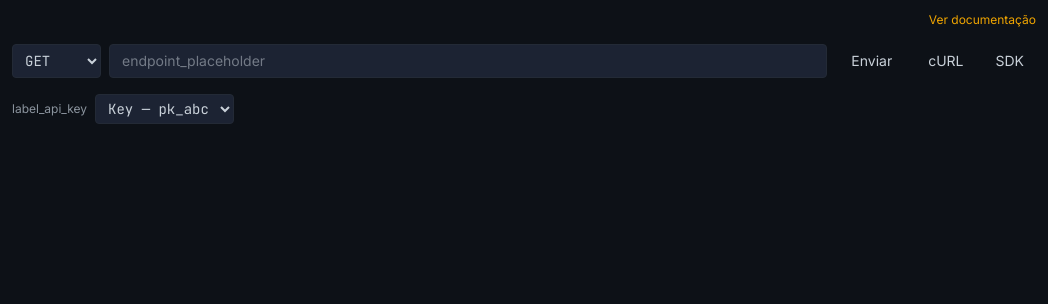
PlaygroundPanel — envio e resposta › exibe painel de resposta após envio
Expected: the dropdown with test id "apikey-select" is shown, [95, 94, 234, 124]
Click the button with test id "btn-send": coordinates (872, 61) [835, 45, 908, 77]
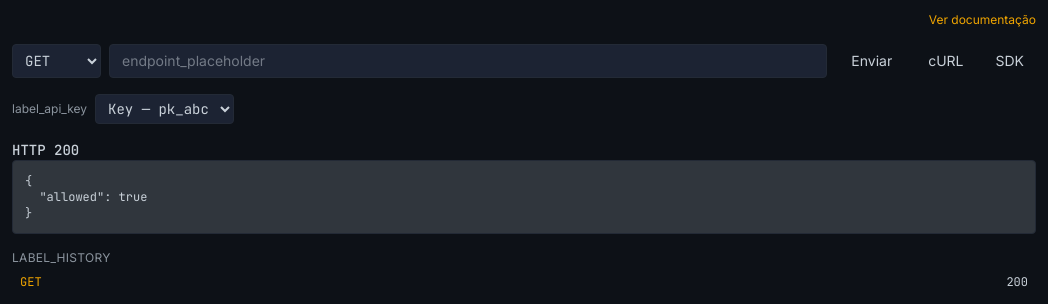
Result: the element with test id "response-panel" is shown at [12, 140, 1036, 234]
